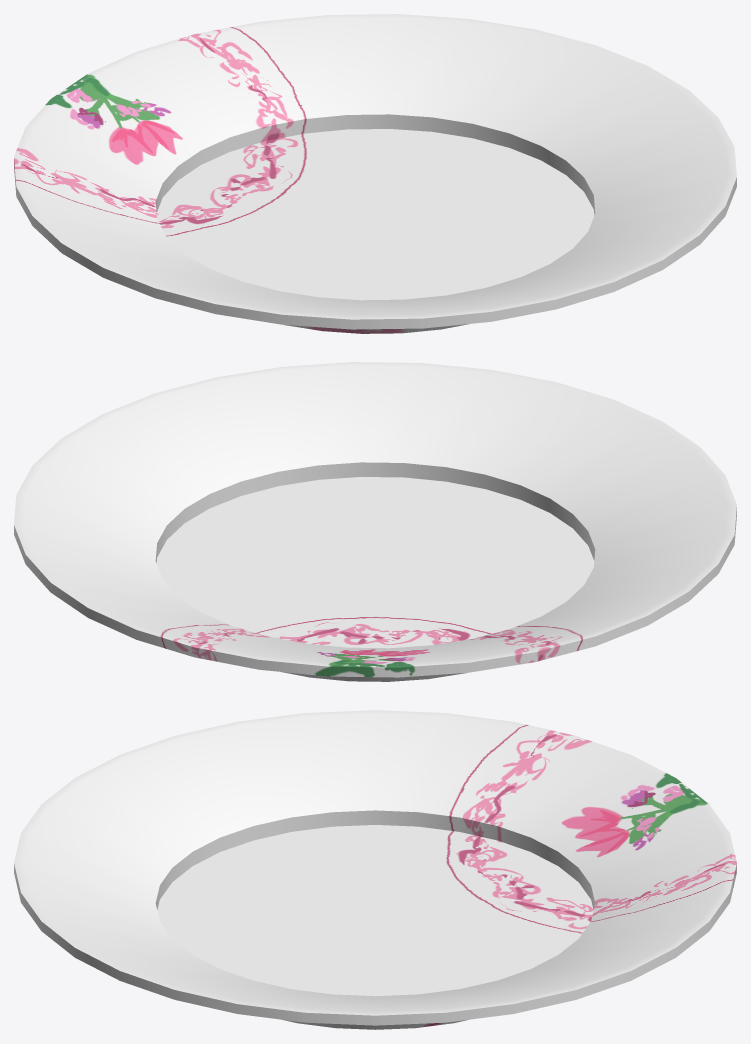
The model's file is disk.obj.
3 views of the same model, one above another, from view 1: azimuth 30°, elevation 25°; view 2: azimuth 150°, elevation 25°; view 3: azimuth 270°, elevation 25° (orthographic).
Parts seen in each view (by area): view 1: Cylinder_Cylinder.001; view 2: Cylinder_Cylinder.001; view 3: Cylinder_Cylinder.001.
Part boxes in pixels (x1,y1,x2,y2): Cylinder_Cylinder.001: (14,14,736,333); Cylinder_Cylinder.001: (14,362,736,681); Cylinder_Cylinder.001: (14,710,736,1029).
Size of the model in its own units: 0.2 by 0.0246 by 0.2.
